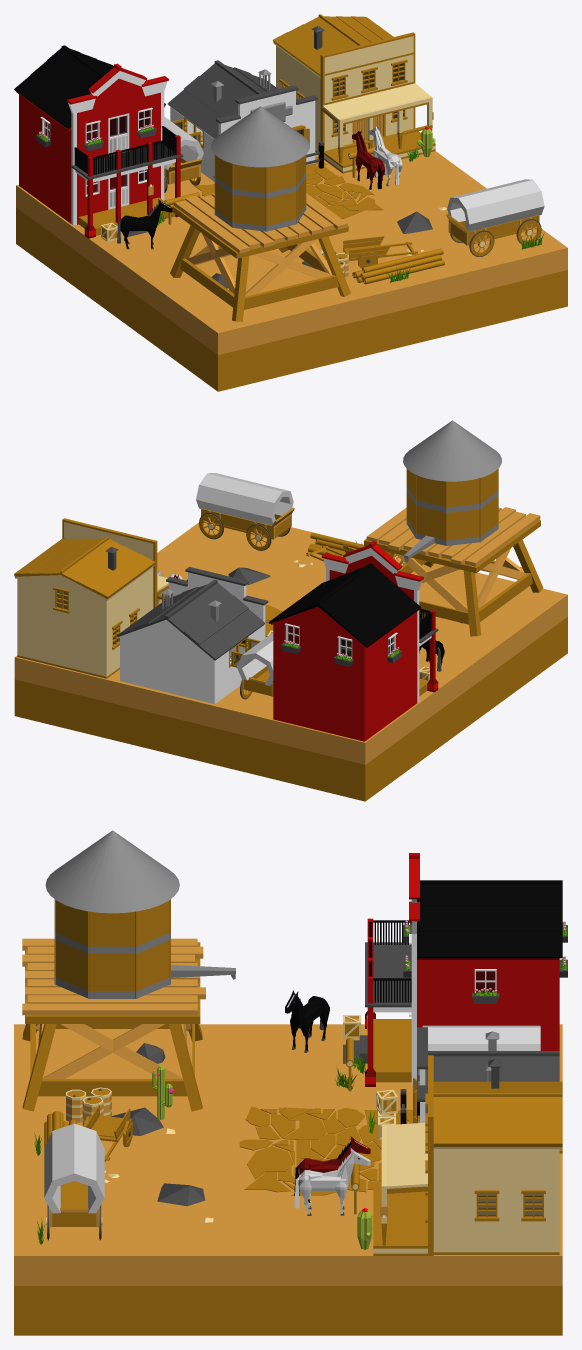
Rendered from town.gltf.
3 renders of one model, top to bottom at view 1: azimuth 30°, elevation 25°; view 2: azimuth 150°, elevation 25°; view 3: azimuth 270°, elevation 25°, orthographic. The views are drawn at different scales.
Visible parts, largest first — view 1: box (×38), wedge (×4), cone, annulus (×3), icosahedron; view 2: box (×41), wedge (×7), cone; view 3: box (×39), wedge (×5), cone, icosahedron (×2), truncatedPyramid4.
Boxes of the visible parts, x1=… form: box (×38): x1=14, y1=16, x2=567, y2=391; wedge (×4): x1=322, y1=83, x2=544, y2=231; cone: x1=211, y1=106, x2=309, y2=167; annulus (×3): x1=360, y1=248, x2=444, y2=284; icosahedron: x1=397, y1=211, x2=432, y2=233; box (×41): x1=14, y1=508, x2=567, y2=801; wedge (×7): x1=121, y1=473, x2=358, y2=659; cone: x1=403, y1=420, x2=501, y2=481; box (×39): x1=14, y1=880, x2=562, y2=1335; wedge (×5): x1=52, y1=1027, x2=540, y2=1186; cone: x1=45, y1=830, x2=179, y2=913; icosahedron (×2): x1=111, y1=1107, x2=205, y2=1206; truncatedPyramid4: x1=171, y1=964, x2=235, y2=977.
Bounding box in the file's own units: 203 × 131 × 202.
